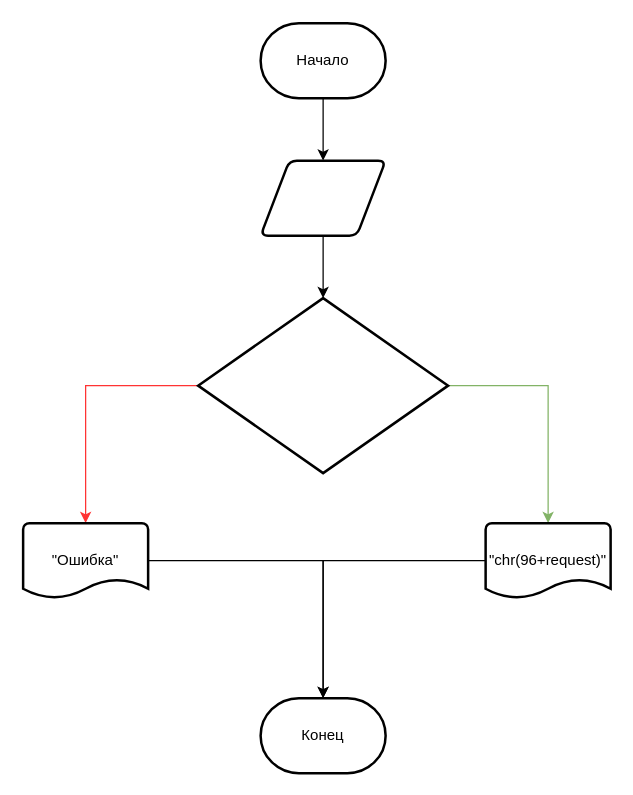
Some shapes in this 633 by 795 pixel diagram are drawn without their labels. The box of each missing label's shape, as (x1, y1, x2, y2) in pixels:
request: (259, 159, 386, 236)
request > 0 and request < 27: (196, 296, 449, 474)
